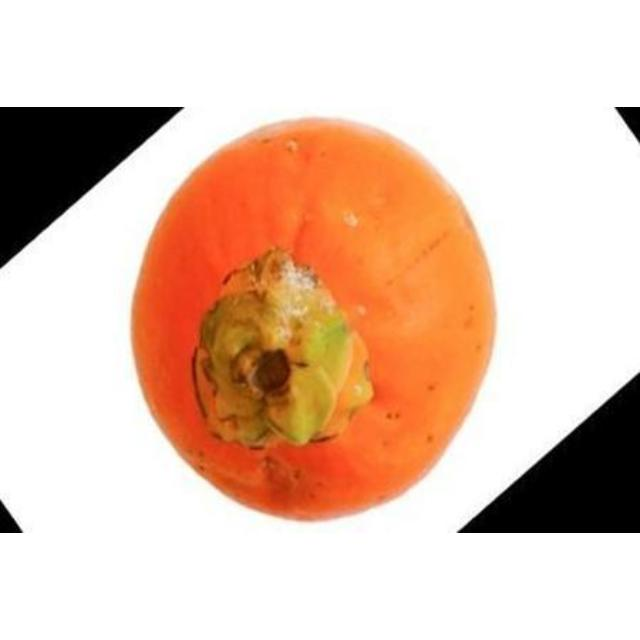good: (125, 117, 503, 525)
